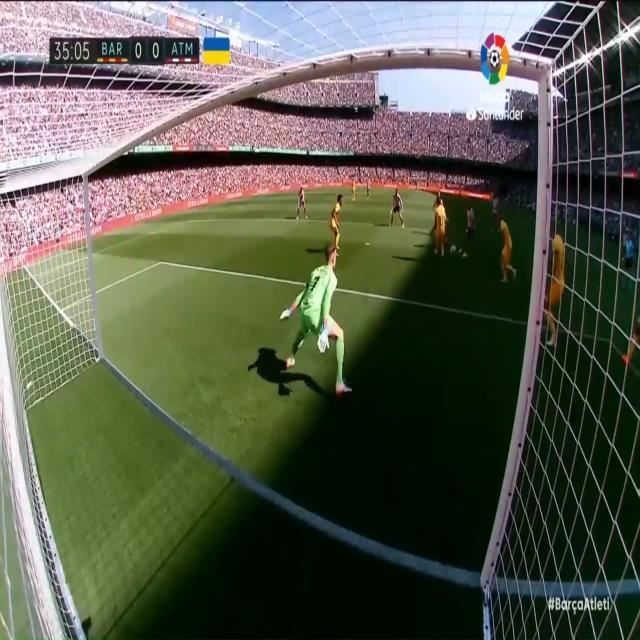ball: (445, 237, 460, 261)
goalkeeper: (276, 243, 359, 394)
player: (615, 250, 640, 375), (481, 202, 507, 290), (324, 187, 348, 255), (427, 194, 449, 259), (458, 192, 478, 263), (293, 182, 311, 227), (387, 185, 400, 234), (349, 177, 357, 204), (363, 176, 371, 200)
referee: (619, 222, 634, 284)
